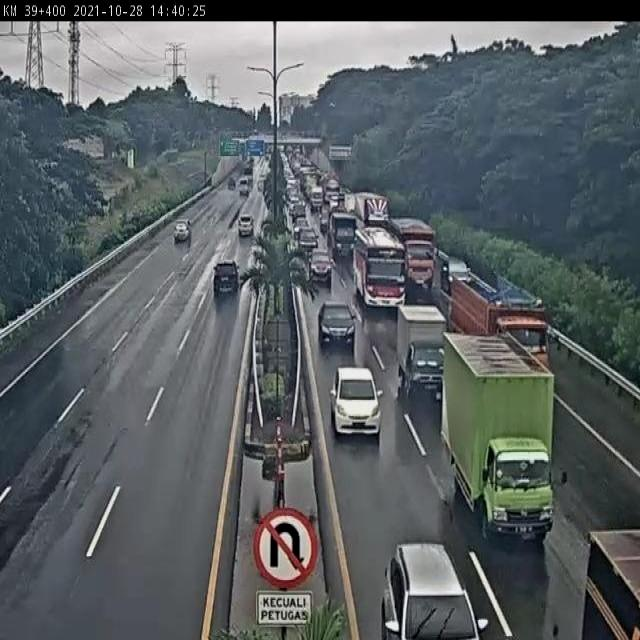Bus: (354, 225, 408, 311)
Car: (378, 540, 489, 640), (328, 365, 386, 446), (318, 298, 355, 352), (307, 248, 334, 286), (212, 262, 242, 295), (173, 216, 195, 244), (298, 228, 319, 251), (236, 216, 254, 236)
Truck: (439, 328, 560, 542), (451, 270, 552, 369), (582, 510, 639, 640), (398, 305, 446, 405), (392, 215, 436, 288), (328, 212, 357, 257), (350, 192, 391, 222), (239, 175, 251, 199)
